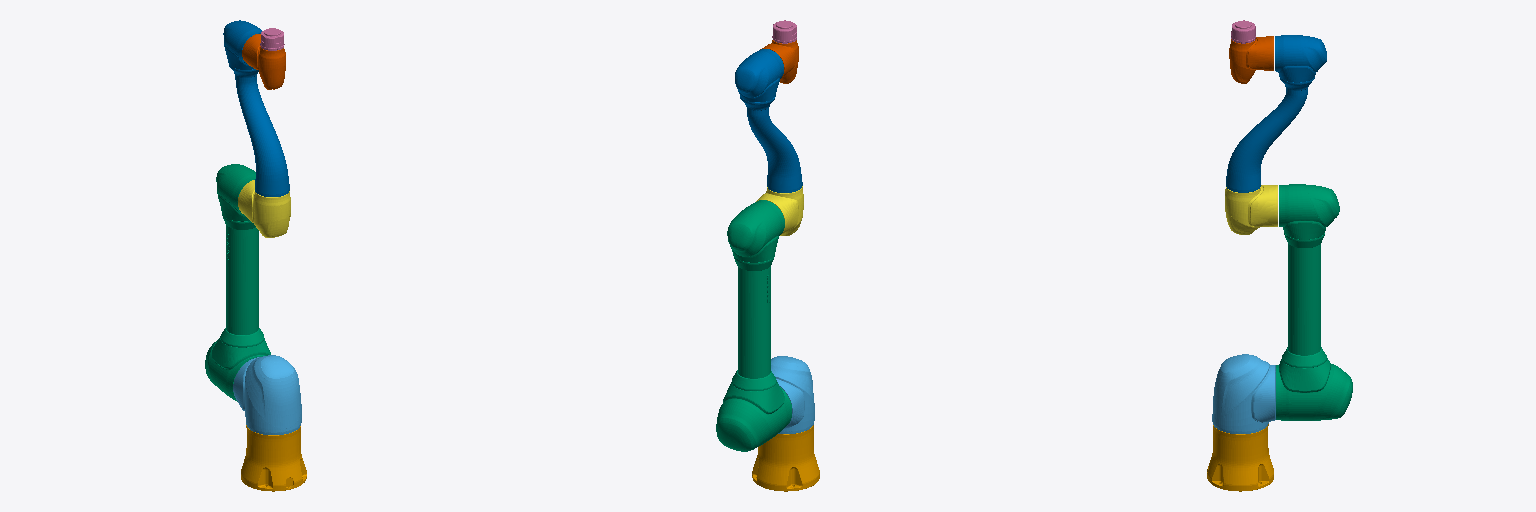
URDF robot description (h2515):
<?xml version="1.0" ?>
<!-- =================================================================================== -->
<!-- |    This document was autogenerated by xacro from /home/theochoi/ros2_ws/src/doosan-robot2-Theo/dsr_description2/xacro/h2515.urdf.xacro | -->
<!-- |    EDITING THIS FILE BY HAND IS NOT RECOMMENDED                                 | -->
<!-- =================================================================================== -->
<robot name="h2515">

    <mujoco>
        <compiler 
        meshdir="assets" 
        balanceinertia="true" 
        discardvisual="false" />
  </mujoco>

  
  <material name="black">
    <color rgba="0.0 0.0 0.0 1.0"/>
  </material>
  <material name="white">
    <color rgba="1.0 1.0 1.0 1.0"/>
  </material>
  <material name="orange">
    <color rgba="1.0 0.4 0.0 1.0"/>
  </material>
  <material name="dr_gray">
    <color rgba="0.490 0.490 0.486 1.0"/>
  </material>
  <material name="dr_white">
    <color rgba="0.941 0.941 0.941 1.0"/>
  </material>
  <material name="dr_blue">
    <color rgba="0 0 0.15 1"/>
  </material>
  <link name="base_link">
    <inertial>
      <mass value="8.537"/>
      <origin xyz="-1.8e-05   -0.002377    0.095608"/>
      <inertia ixx="0.078238" ixy="3.026e-05" ixz="1.7626e-05" iyy="0.077909" iyz="-0.00099645" izz="0.068138"/>
    </inertial>
    <collision>
      <origin rpy="0 0 0" xyz="0 0 0"/>
      <geometry>
        <mesh filename="H2515_0_0.stl" scale="0.001 0.001 0.001"/>
      </geometry>
    </collision>
    <visual>
      <origin rpy="0 0 0" xyz="0 0 0"/>
      <geometry>
        <mesh filename="H2515_0_0.stl" scale="0.001 0.001 0.001"/>
      </geometry>
    </visual>
  </link>
  <!-- joint 1 -->
  <joint name="joint_1" type="revolute">
    <parent link="base_link"/>
    <child link="link_1"/>
    <origin rpy="0 0 0" xyz="0 0 0.3443"/>
    <axis xyz="0 0 1"/>
    <limit effort="372" lower="-6.2832" upper="6.2832" velocity="1.7453"/>
    <dynamics friction="0"/>
  </joint>
  <link name="link_1">
    <inertial>
      <mass value="20.253"/>
      <origin xyz="-5.3e-05     0.11854   -0.059979"/>
      <inertia ixx="0.52872" ixy="-5.7923e-05" ixz="-7.341e-06" iyy="0.27999" iyz="-0.149" izz="0.34741"/>
    </inertial>
    <collision>
      <origin rpy="0 0 0" xyz="0 0 0"/>
      <geometry>
        <mesh filename="H2515_1_0.stl" scale="0.001 0.001 0.001"/>
      </geometry>
    </collision>
    <visual>
      <origin rpy="0 0 0" xyz="0 0 0"/>
      <geometry>
        <mesh filename="H2515_1_0.stl" scale="0.001 0.001 0.001"/>
      </geometry>
    </visual>
  </link>
  <!-- joint2 -->
  <joint name="joint_2" type="revolute">
    <parent link="link_1"/>
    <child link="link_2"/>
    <origin rpy="0 -1.571 -1.571" xyz="0 0.0099 0"/>
    <axis xyz="0 0 1"/>
    <limit effort="372" lower="-2.1817" upper="2.1817" velocity="1.3963"/>
    <dynamics friction="0"/>
  </joint>
  <link name="link_2">
    <inertial>
      <mass value="28.111"/>
      <origin xyz="0.35729    -2.4e-05     0.22527"/>
      <inertia ixx="0.15204" ixy="-0.00010891" ixz="0.107" iyy="2.5113" iyz="-5.2156e-05" izz="2.4697"/>
    </inertial>
    <collision>
      <origin rpy="0 0 0" xyz="0 0 0"/>
      <geometry>
        <mesh filename="H2515_2_0.stl" scale="0.001 0.001 0.001"/>
      </geometry>
    </collision>
    <visual>
      <origin rpy="0 0 0" xyz="0 0 0"/>
      <geometry>
        <mesh filename="H2515_2_0.stl" scale="0.001 0.001 0.001"/>
      </geometry>
    </visual>
    <collision>
      <origin rpy="0 0 0" xyz="0 0 0"/>
      <geometry>
        <mesh filename="H2515_2_1.stl" scale="0.001 0.001 0.001"/>
      </geometry>
    </collision>
    <visual>
      <origin rpy="0 0 0" xyz="0 0 0"/>
      <geometry>
        <mesh filename="H2515_2_1.stl" scale="0.001 0.001 0.001"/>
      </geometry>
    </visual>
    <collision>
      <origin rpy="0 0 0" xyz="0 0 0"/>
      <geometry>
        <mesh filename="H2515_2_2.stl" scale="0.001 0.001 0.001"/>
      </geometry>
    </collision>
    <visual>
      <origin rpy="0 0 0" xyz="0 0 0"/>
      <geometry>
        <mesh filename="H2515_2_2.stl" scale="0.001 0.001 0.001"/>
      </geometry>
    </visual>
  </link>
  <!-- joint3 -->
  <joint name="joint_3" type="revolute">
    <parent link="link_2"/>
    <child link="link_3"/>
    <origin rpy="0 0 1.571" xyz="0.7595 0 0"/>
    <axis xyz="0 0 1"/>
    <limit effort="372" lower="-2.7925" upper="2.7925" velocity="1.7453"/>
    <dynamics friction="0"/>
  </joint>
  <link name="link_3">
    <inertial>
      <mass value="6.421"/>
      <origin xyz="-6.5e-05  -0.0074124    0.049527"/>
      <inertia ixx="0.042338" ixy="2.9627e-05" ixz="-1.1919e-05" iyy="0.039418" iyz="-0.0029936" izz="0.028103"/>
    </inertial>
    <collision>
      <origin rpy="0 0 0" xyz="0 0 0"/>
      <geometry>
        <mesh filename="H2515_3_0.stl" scale="0.001 0.001 0.001"/>
      </geometry>
    </collision>
    <visual>
      <origin rpy="0 0 0" xyz="0 0 0"/>
      <geometry>
        <mesh filename="H2515_3_0.stl" scale="0.001 0.001 0.001"/>
      </geometry>
    </visual>
  </link>
  <!-- joint4 -->
  <joint name="joint_4" type="revolute">
    <parent link="link_3"/>
    <child link="link_4"/>
    <origin rpy="1.571 0 0" xyz="0 -0.6195 0"/>
    <axis xyz="0 0 1"/>
    <limit effort="163" lower="-6.2832" upper="6.2832" velocity="3.1416"/>
    <dynamics friction="0"/>
  </joint>
  <link name="link_4">
    <inertial>
      <mass value="7.295"/>
      <origin xyz="7.9e-05     0.13068    -0.17947"/>
      <inertia ixx="0.41598" ixy="-6.9414e-05" ixz="-0.00010777" iyy="0.36426" iyz="-0.12499" izz="0.075756"/>
    </inertial>
    <collision>
      <origin rpy="0 0 0" xyz="0 0 0"/>
      <geometry>
        <mesh filename="H2515_4_0.stl" scale="0.001 0.001 0.001"/>
      </geometry>
    </collision>
    <visual>
      <origin rpy="0 0 0" xyz="0 0 0"/>
      <geometry>
        <mesh filename="H2515_4_0.stl" scale="0.001 0.001 0.001"/>
      </geometry>
    </visual>
    <collision>
      <origin rpy="0 0 0" xyz="0 0 0"/>
      <geometry>
        <mesh filename="H2515_4_1.stl" scale="0.001 0.001 0.001"/>
      </geometry>
    </collision>
    <visual>
      <origin rpy="0 0 0" xyz="0 0 0"/>
      <geometry>
        <mesh filename="H2515_4_1.stl" scale="0.001 0.001 0.001"/>
      </geometry>
    </visual>
  </link>
  <!-- joint5 -->
  <joint name="joint_5" type="revolute">
    <parent link="link_4"/>
    <child link="link_5"/>
    <origin rpy="-1.571 0 0" xyz="0 0 0"/>
    <axis xyz="0 0 1"/>
    <limit effort="96" lower="-6.2832" upper="6.2832" velocity="3.1416"/>
    <dynamics friction="0"/>
  </joint>
  <link name="link_5">
    <inertial>
      <mass value="4.099"/>
      <origin xyz="-6.1e-05   -0.000589    0.048788"/>
      <inertia ixx="0.024784" ixy="2.2652e-05" ixz="-5.8056e-06" iyy="0.024229" iyz="5.8109e-05" izz="0.012218"/>
    </inertial>
    <collision>
      <origin rpy="0 0 0" xyz="0 0 0"/>
      <geometry>
        <mesh filename="H2515_5_0.stl" scale="0.001 0.001 0.001"/>
      </geometry>
    </collision>
    <visual>
      <origin rpy="0 0 0" xyz="0 0 0"/>
      <geometry>
        <mesh filename="H2515_5_0.stl" scale="0.001 0.001 0.001"/>
      </geometry>
    </visual>
  </link>
  <!-- joint6 -->
  <joint name="joint_6" type="revolute">
    <parent link="link_5"/>
    <child link="link_6"/>
    <origin rpy="1.571 0 0" xyz="0 -0.121 0"/>
    <axis xyz="0 0 1"/>
    <limit effort="50" lower="-6.2832" upper="6.2832" velocity="3.927"/>
    <dynamics friction="0"/>
  </joint>
  <link name="link_6">
    <inertial>
      <mass value="0.897"/>
      <origin xyz="-3.3e-05     1.2e-05   -0.049444"/>
      <inertia ixx="0.0081209" ixy="7.9444e-06" ixz="7.3951e-06" iyy="0.0071981" iyz="4.2669e-06" izz="0.0079983"/>
    </inertial>
    <collision>
      <origin rpy="0 0 0" xyz="0 0 0"/>
      <geometry>
        <mesh filename="H2515_6_0.stl" scale="0.001 0.001 0.001"/>
      </geometry>
    </collision>
    <visual>
      <origin rpy="0 0 0" xyz="0 0 0"/>
      <geometry>
        <mesh filename="H2515_6_0.stl" scale="0.001 0.001 0.001"/>
      </geometry>
    </visual>
  </link>
  <!-- Transmission 1 -->
  <transmission name="tran1">
    <type>transmission_interface/SimpleTransmission</type>
    <joint name="joint1">
      <hardwareInterface>hardware_interface/PositionJointInterface</hardwareInterface>
    </joint>
    <actuator name="motor1">
      <hardwareInterface>hardware_interface/PositionJointInterface</hardwareInterface>
      <mechanicalReduction>1</mechanicalReduction>
    </actuator>
  </transmission>
  <!-- Transmission 2 -->
  <transmission name="tran2">
    <type>transmission_interface/SimpleTransmission</type>
    <joint name="joint2">
      <hardwareInterface>hardware_interface/PositionJointInterface</hardwareInterface>
    </joint>
    <actuator name="motor2">
      <hardwareInterface>hardware_interface/PositionJointInterface</hardwareInterface>
      <mechanicalReduction>1</mechanicalReduction>
    </actuator>
  </transmission>
  <!-- Transmission 3 -->
  <transmission name="tran3">
    <type>transmission_interface/SimpleTransmission</type>
    <joint name="joint3">
      <hardwareInterface>hardware_interface/PositionJointInterface</hardwareInterface>
    </joint>
    <actuator name="motor3">
      <hardwareInterface>hardware_interface/PositionJointInterface</hardwareInterface>
      <mechanicalReduction>1</mechanicalReduction>
    </actuator>
  </transmission>
  <!-- Transmission 4 -->
  <transmission name="tran4">
    <type>transmission_interface/SimpleTransmission</type>
    <joint name="joint4">
      <hardwareInterface>hardware_interface/PositionJointInterface</hardwareInterface>
    </joint>
    <actuator name="motor4">
      <hardwareInterface>hardware_interface/PositionJointInterface</hardwareInterface>
      <mechanicalReduction>1</mechanicalReduction>
    </actuator>
  </transmission>
  <!-- Transmission 5 -->
  <transmission name="tran5">
    <type>transmission_interface/SimpleTransmission</type>
    <joint name="joint5">
      <hardwareInterface>hardware_interface/PositionJointInterface</hardwareInterface>
    </joint>
    <actuator name="motor5">
      <hardwareInterface>hardware_interface/PositionJointInterface</hardwareInterface>
      <mechanicalReduction>1</mechanicalReduction>
    </actuator>
  </transmission>
  <!-- Transmission 6 -->
  <transmission name="tran6">
    <type>transmission_interface/SimpleTransmission</type>
    <joint name="joint6">
      <hardwareInterface>hardware_interface/PositionJointInterface</hardwareInterface>
    </joint>
    <actuator name="motor6">
      <hardwareInterface>hardware_interface/PositionJointInterface</hardwareInterface>
      <mechanicalReduction>1</mechanicalReduction>
    </actuator>
  </transmission>
  <!-- ros_control plugin -->
  <gazebo>
    <plugin filename="ign_ros2_control-system" name="ign_ros2_control::IgnitionROS2ControlPlugin">
      <ros>
        <namespace></namespace>
      </ros>
      <parameters>/home/theochoi/ros2_ws/install/dsr_controller2/share/dsr_controller2/config/dsr_controller2_gz.yaml</parameters>
    </plugin>
  </gazebo>
  <!-- Base -->
  <gazebo reference="base_0">
    <kp>100000.0</kp>
    <kd>100.0</kd>
    <mu1>30.0</mu1>
    <mu2>30.0</mu2>
    <maxVel>1.0</maxVel>
    <minDepth>0.001</minDepth>
  </gazebo>
  <!-- Link1 -->
  <gazebo reference="link1">
    <kp>100000.0</kp>
    <kd>100.0</kd>
    <mu1>30.0</mu1>
    <mu2>30.0</mu2>
    <maxVel>1.0</maxVel>
    <minDepth>0.001</minDepth>
  </gazebo>
  <!-- Link2 -->
  <gazebo reference="link2">
    <kp>100000.0</kp>
    <kd>100.0</kd>
    <mu1>30.0</mu1>
    <mu2>30.0</mu2>
    <maxVel>1.0</maxVel>
    <minDepth>0.001</minDepth>
  </gazebo>
  <!-- Link3 -->
  <gazebo reference="link3">
    <kp>100000.0</kp>
    <kd>100.0</kd>
    <mu1>30.0</mu1>
    <mu2>30.0</mu2>
    <maxVel>1.0</maxVel>
    <minDepth>0.001</minDepth>
  </gazebo>
  <!-- Link4 -->
  <gazebo reference="link4">
    <kp>100000.0</kp>
    <kd>100.0</kd>
    <mu1>30.0</mu1>
    <mu2>30.0</mu2>
    <maxVel>1.0</maxVel>
    <minDepth>0.001</minDepth>
  </gazebo>
  <!-- Link5 -->
  <gazebo reference="link5">
    <kp>100000.0</kp>
    <kd>100.0</kd>
    <mu1>30.0</mu1>
    <mu2>30.0</mu2>
    <maxVel>1.0</maxVel>
    <minDepth>0.001</minDepth>
  </gazebo>
  <!-- Link6 -->
  <gazebo reference="link6">
    <kp>100000.0</kp>
    <kd>100.0</kd>
    <mu1>30.0</mu1>
    <mu2>30.0</mu2>
    <maxVel>1.0</maxVel>
    <minDepth>0.001</minDepth>
  </gazebo>
  <link name="world"/>
  <!-- World fixed joint-->
  <joint name="world_fixed" type="fixed">
    <origin rpy="0 0 0" xyz="0 0 0"/>
    <parent link="world"/>
    <child link="base_link"/>
  </joint>
  <ros2_control name="h2515" type="system">
    <hardware>
      <plugin>dsr_hardware2/DRHWInterface</plugin>
      <param name="host"></param>
      <param name="rt_host"></param>
      <param name="port"></param>
      <param name="mode"></param>
      <param name="model"></param>
    </hardware>
    <joint name="joint_1">
      <command_interface name="position">
        <param name="min">{-2*pi}</param>
        <param name="max">{2*pi}</param>
      </command_interface>
      <command_interface name="velocity">
        <param name="min">-3.15</param>
        <param name="max">3.15</param>
      </command_interface>
      <state_interface name="position">
        <param name="initial_value">0.0</param>
      </state_interface>
      <state_interface name="velocity"/>
    </joint>
    <joint name="joint_2">
      <command_interface name="position">
        <param name="min">{-2*pi}</param>
        <param name="max">{2*pi}</param>
      </command_interface>
      <command_interface name="velocity">
        <param name="min">-3.15</param>
        <param name="max">3.15</param>
      </command_interface>
      <state_interface name="position">
        <param name="initial_value">0.0</param>
      </state_interface>
      <state_interface name="velocity"/>
    </joint>
    <joint name="joint_3">
      <command_interface name="position">
        <param name="min">{-pi}</param>
        <param name="max">{pi}</param>
      </command_interface>
      <command_interface name="velocity">
        <param name="min">-3.15</param>
        <param name="max">3.15</param>
      </command_interface>
      <state_interface name="position">
        <param name="initial_value">0.0</param>
      </state_interface>
      <state_interface name="velocity"/>
    </joint>
    <joint name="joint_4">
      <command_interface name="position">
        <param name="min">{-2*pi}</param>
        <param name="max">{2*pi}</param>
      </command_interface>
      <command_interface name="velocity">
        <param name="min">-3.2</param>
        <param name="max">3.2</param>
      </command_interface>
      <state_interface name="position">
        <param name="initial_value">0.0</param>
      </state_interface>
      <state_interface name="velocity"/>
    </joint>
    <joint name="joint_5">
      <command_interface name="position">
        <param name="min">{-2*pi}</param>
        <param name="max">{2*pi}</param>
      </command_interface>
      <command_interface name="velocity">
        <param name="min">-3.2</param>
        <param name="max">3.2</param>
      </command_interface>
      <state_interface name="position">
        <param name="initial_value">0.0</param>
      </state_interface>
      <state_interface name="velocity"/>
    </joint>
    <joint name="joint_6">
      <command_interface name="position">
        <param name="min">{-2*pi}</param>
        <param name="max">{2*pi}</param>
      </command_interface>
      <command_interface name="velocity">
        <param name="min">-3.2</param>
        <param name="max">3.2</param>
      </command_interface>
      <state_interface name="position">
        <param name="initial_value">0.0</param>
      </state_interface>
      <state_interface name="velocity"/>
    </joint>
  </ros2_control>
</robot>

--- What the picture shows (computed from the rendered views, not written in the file) ---
Views: 3 orthographic renders of the robot side by side, from view 1: azimuth 30°, elevation 25°; view 2: azimuth 150°, elevation 25°; view 3: azimuth 270°, elevation 25°.
Robot: h2515 — 8 links, 7 joints (6 revolute, 1 fixed); root link world; default pose: all joints at 0.
Links seen in each view (by area): view 1: link_2, link_4, link_1, base_link, link_3, link_5; view 2: link_2, link_4, base_link, link_1, link_3, link_5; view 3: link_2, link_4, link_1, base_link, link_3, link_5.
Boxes of the visible links, box(x1,y1,x2,y2) form: link_2: box(205, 164, 270, 401); link_4: box(223, 20, 289, 196); link_1: box(233, 355, 301, 434); base_link: box(241, 425, 306, 491); link_3: box(238, 180, 290, 237); link_5: box(242, 34, 285, 89); link_2: box(716, 200, 791, 451); link_4: box(735, 49, 802, 192); base_link: box(752, 425, 819, 491); link_1: box(771, 356, 814, 433); link_3: box(756, 186, 803, 235); link_5: box(760, 40, 798, 83); link_2: box(1276, 184, 1352, 420); link_4: box(1226, 35, 1326, 192); link_1: box(1212, 354, 1275, 433); base_link: box(1207, 424, 1273, 491); link_3: box(1225, 185, 1277, 234); link_5: box(1229, 36, 1273, 83).
Size in the robot's own frame: 0.248 by 0.5376 by 1.84 metres.
10 mesh visuals loaded from 10 distinct referenced files (10 binary STL).
